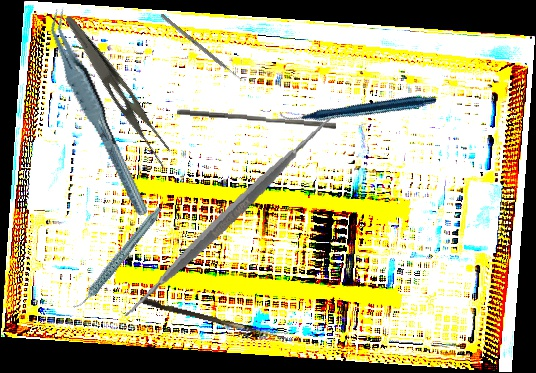Dressing Forceps: (49, 14, 183, 170)
Handpiece: (278, 34, 438, 179), (55, 205, 179, 311)
Hook Surgical: (138, 296, 291, 341)
Pusher: (159, 13, 247, 85), (176, 108, 337, 130)
Spatula Surgical: (104, 96, 350, 338)
Tissue Forceps: (43, 1, 151, 225)
